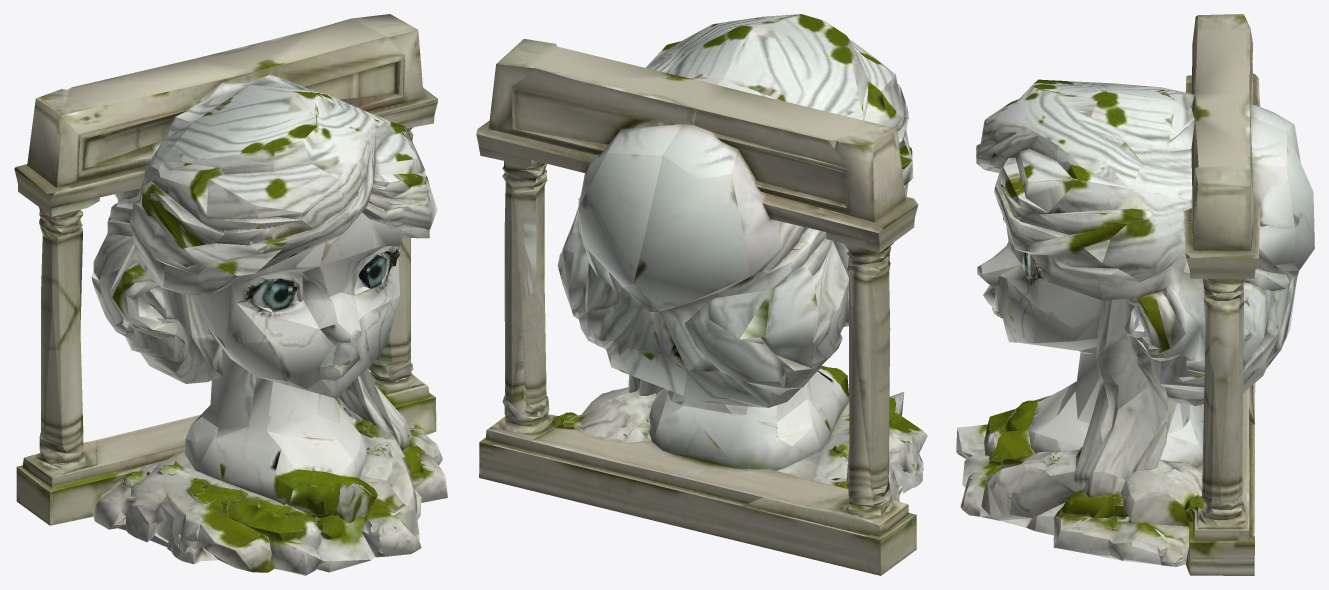
File: statue-head.glb
3 renders of one model, left to right at view 1: azimuth 30°, elevation 25°; view 2: azimuth 150°, elevation 25°; view 3: azimuth 270°, elevation 25°, orthographic. The views are drawn at different scales.
Size of the model in its own units: 1.86 by 1.9 by 1.54.
1 material, 1 textured.
